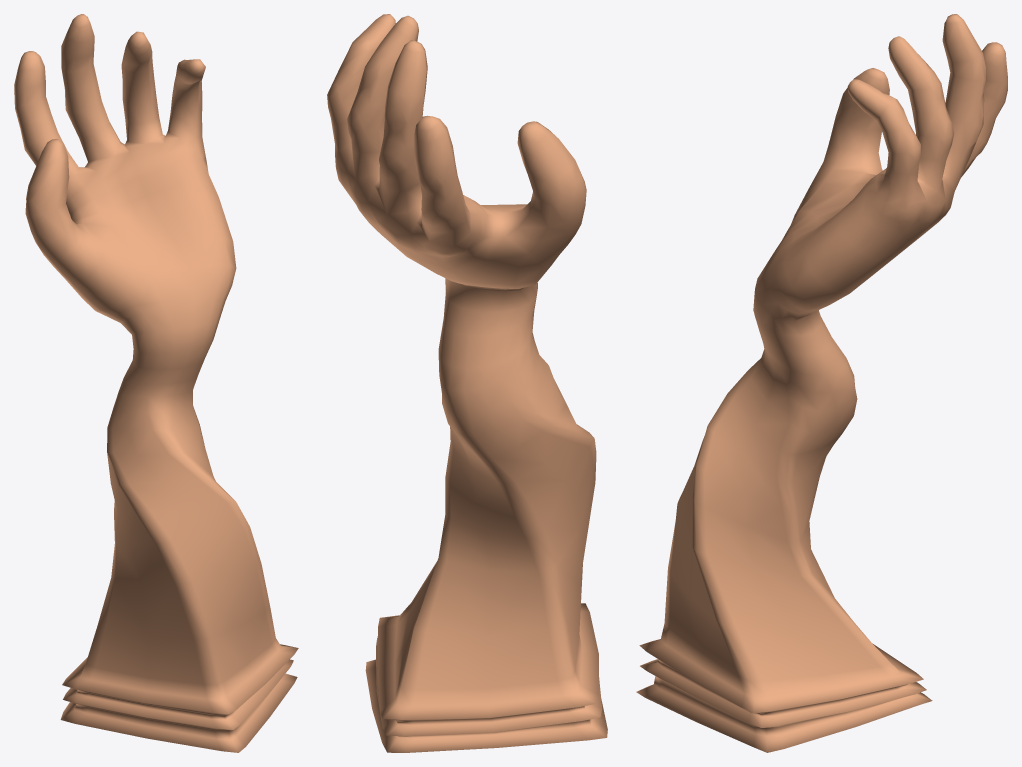
File: Mano.fbx
3 views of the same model, side by side, from view 1: azimuth 30°, elevation 25°; view 2: azimuth 150°, elevation 25°; view 3: azimuth 270°, elevation 25° (orthographic). The views are drawn at different scales.
Visible parts, largest first — view 1: Mano.002; view 2: Mano.002; view 3: Mano.002.
Part boxes in pixels (x1,y1,x2,y2): Mano.002: (14,14,298,752); Mano.002: (327,14,607,752); Mano.002: (636,14,1007,752).
Bounding box in the file's own units: 89.14 × 237 × 118.
